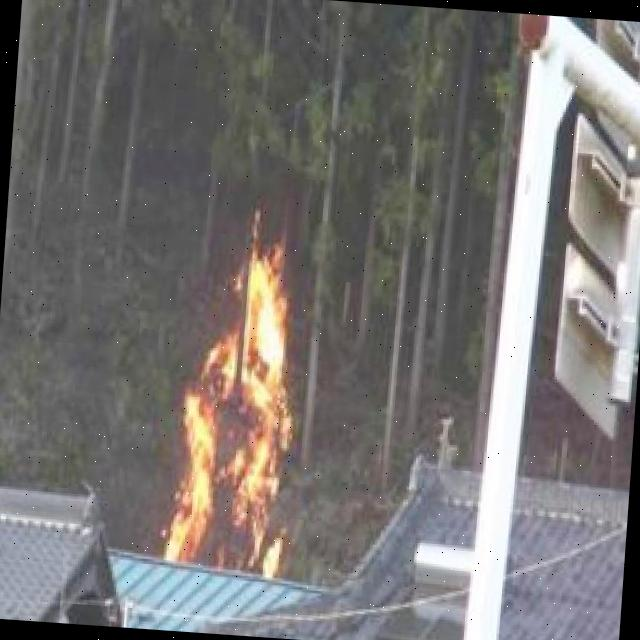fire: (164, 240, 322, 580)
